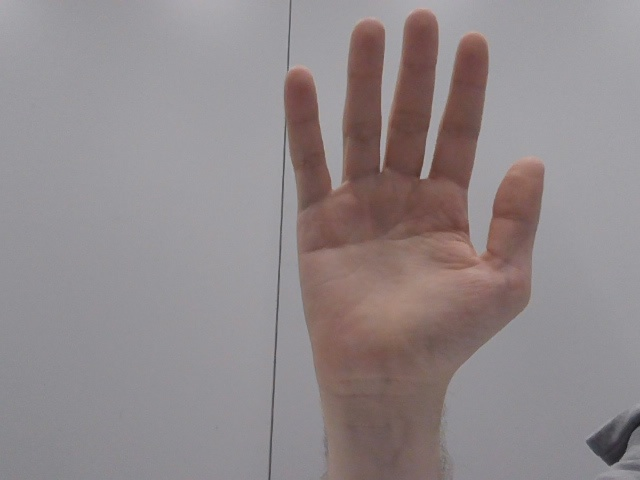nada: (267, 1, 558, 417)
